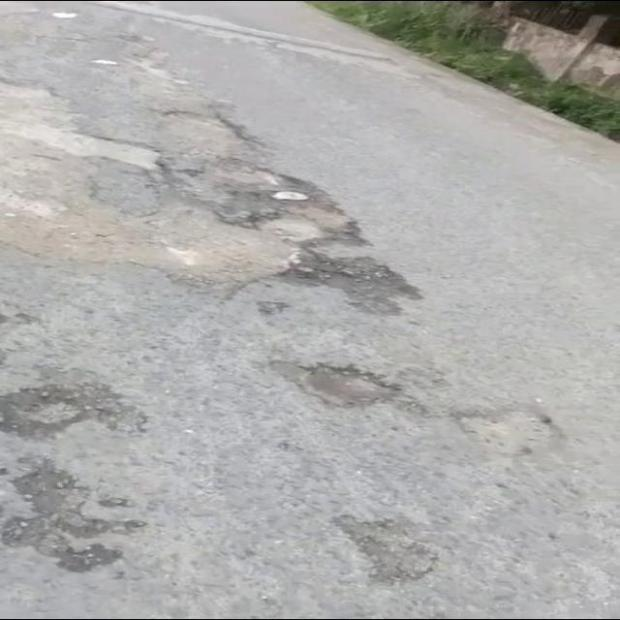lubang: (0, 81, 419, 314), (0, 454, 144, 573), (0, 370, 146, 437), (269, 352, 410, 407), (336, 515, 437, 580), (455, 404, 563, 462)
